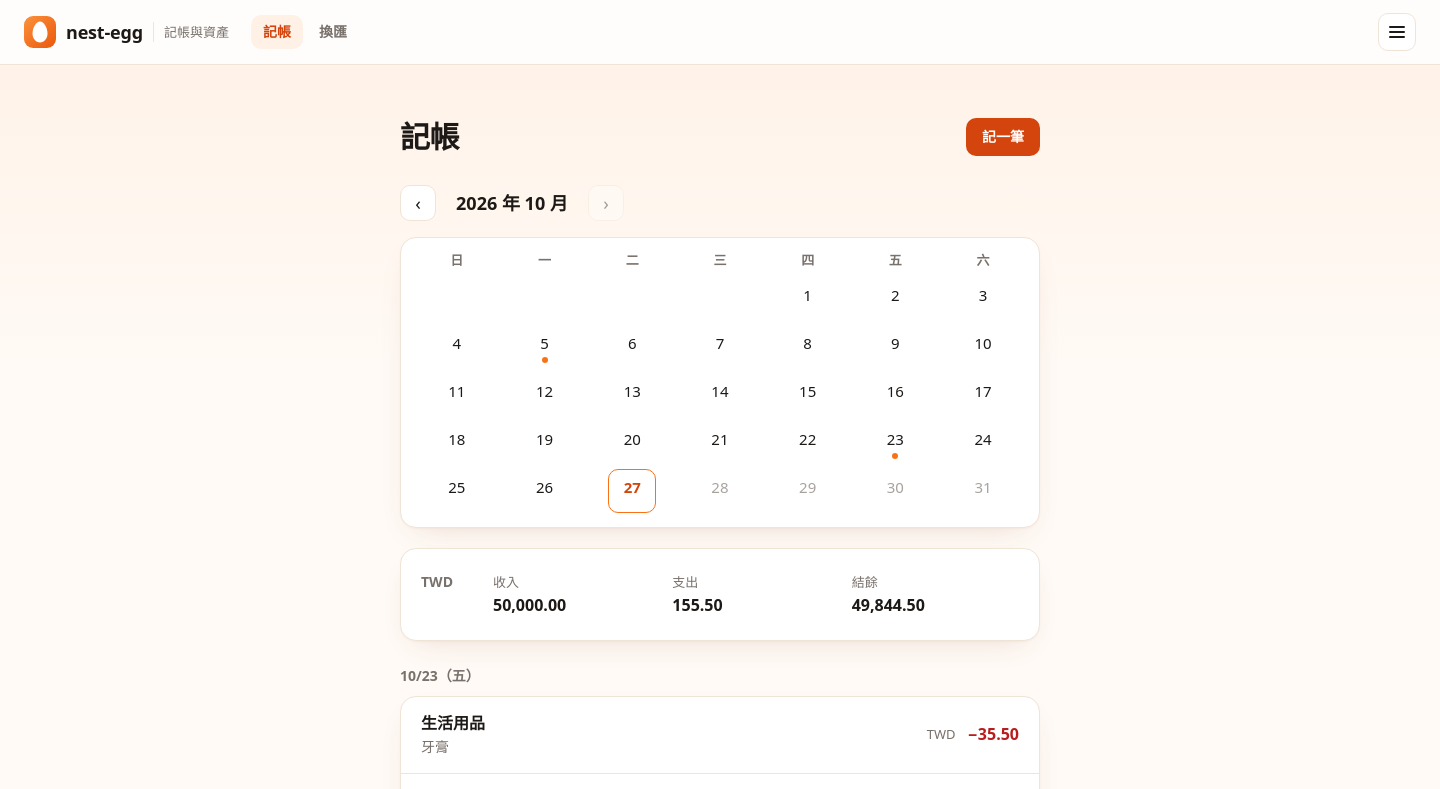
Test: calendar › shows only the entries of the day picked on the calendar
Click the button named "10/23（五），有紀錄" at {"x": 895, "y": 443}, box left=871, top=421, right=919, bottom=465
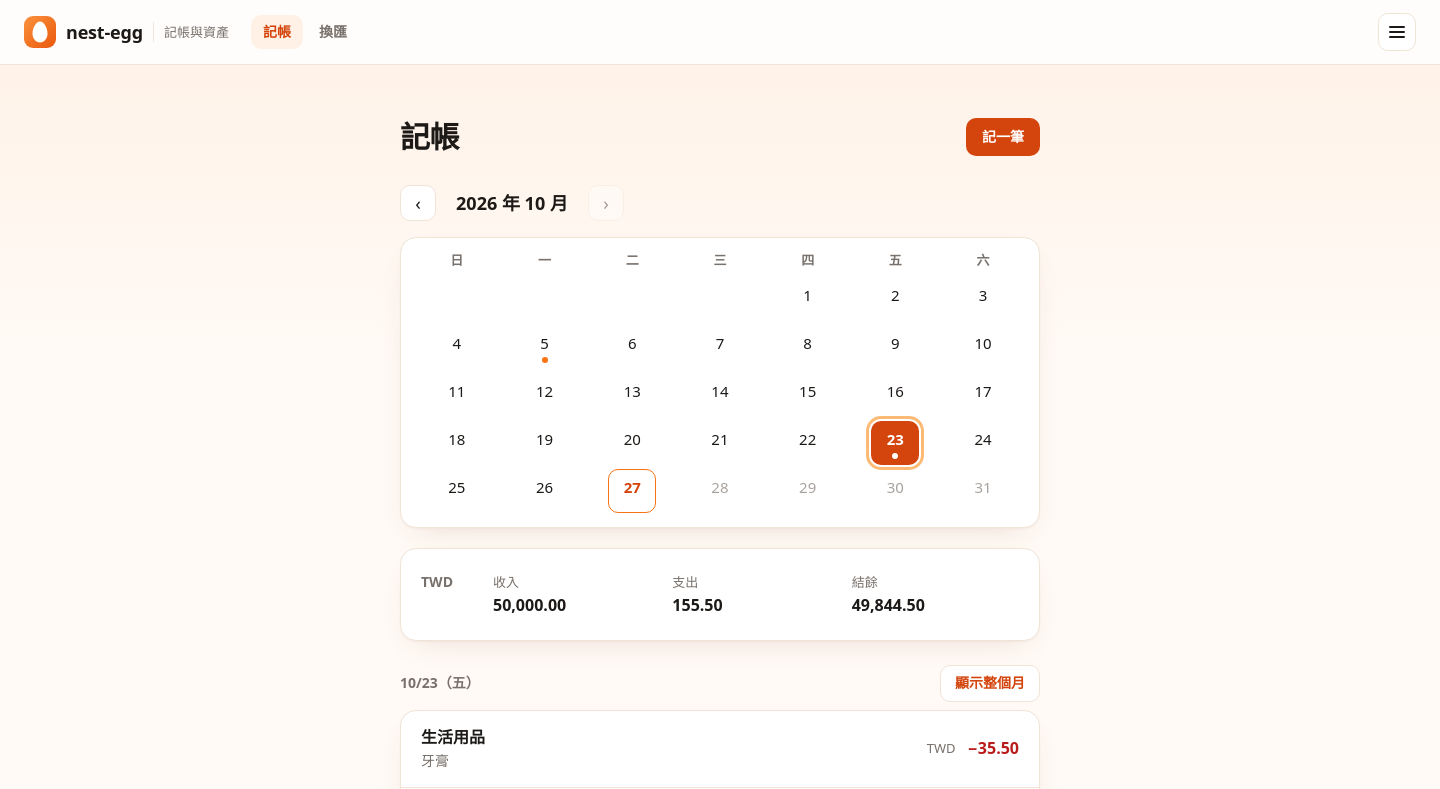
Expected: the text "50,000.00" is shown, left=493, top=594, right=566, bottom=616
Result: the headings read "10/23（五）", in this order at left=400, top=672, right=480, bottom=695
